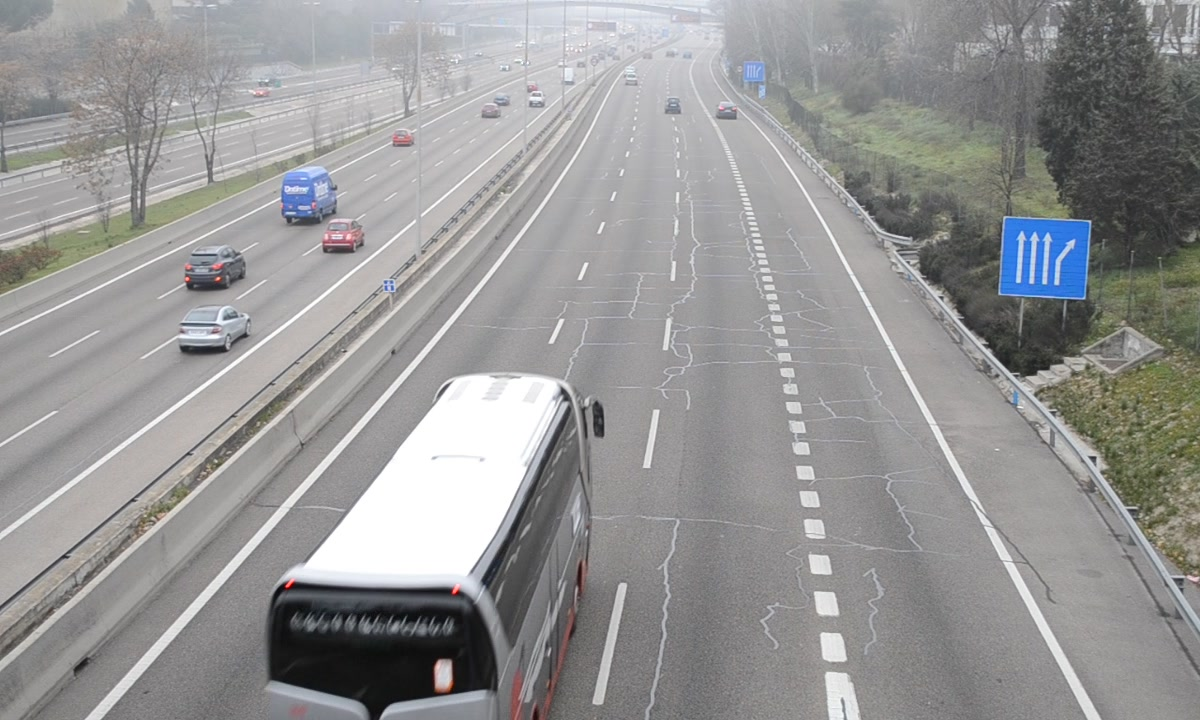bus: (265, 373, 593, 720)
car: (716, 101, 738, 121), (663, 95, 683, 116)
